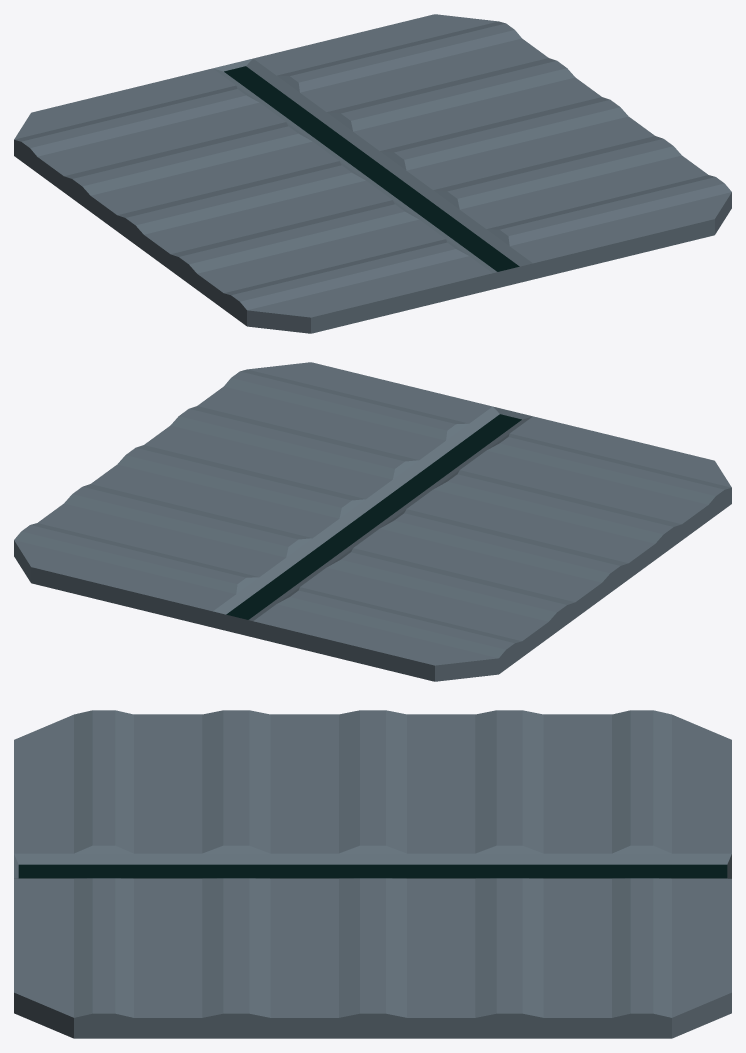
File: HatchDoor.fbx
The picture shows the model from 3 angles, top to bottom: view 1: azimuth 30°, elevation 25°; view 2: azimuth 150°, elevation 25°; view 3: azimuth 270°, elevation 25°; orthographic projection. The views are drawn at different scales.
Parts seen in each view (by area): view 1: HatchDoor; view 2: HatchDoor; view 3: HatchDoor.
Boxes of the visible parts, x1=… form: HatchDoor: x1=14, y1=14, x2=731, y2=333; HatchDoor: x1=14, y1=362, x2=731, y2=681; HatchDoor: x1=14, y1=710, x2=731, y2=1038.
Bounding box in the file's own units: 9.98 × 0.3841 × 9.98.
